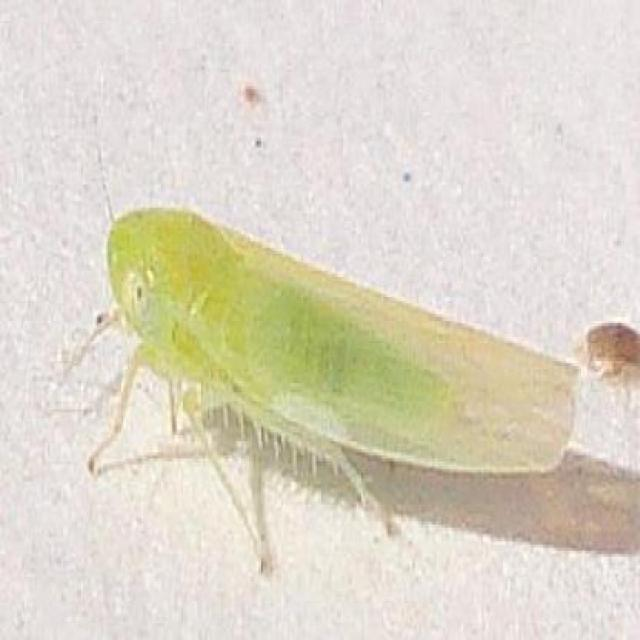green-leafhopper: (61, 210, 581, 576)
